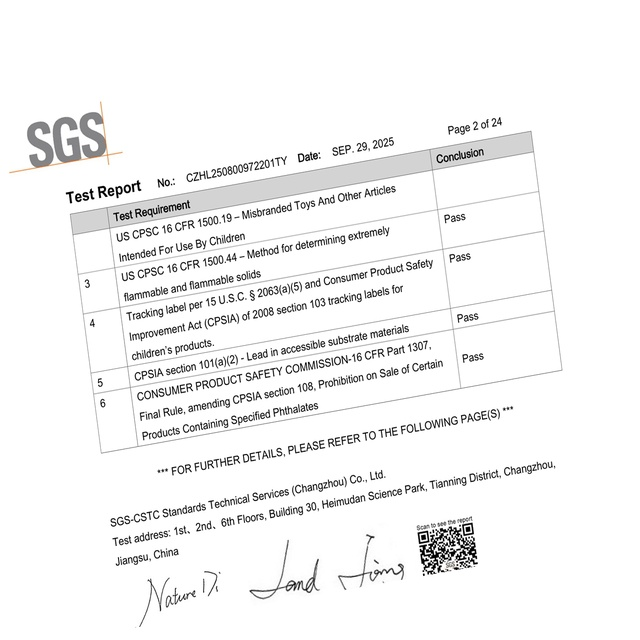sgs: (28, 111, 108, 167)
